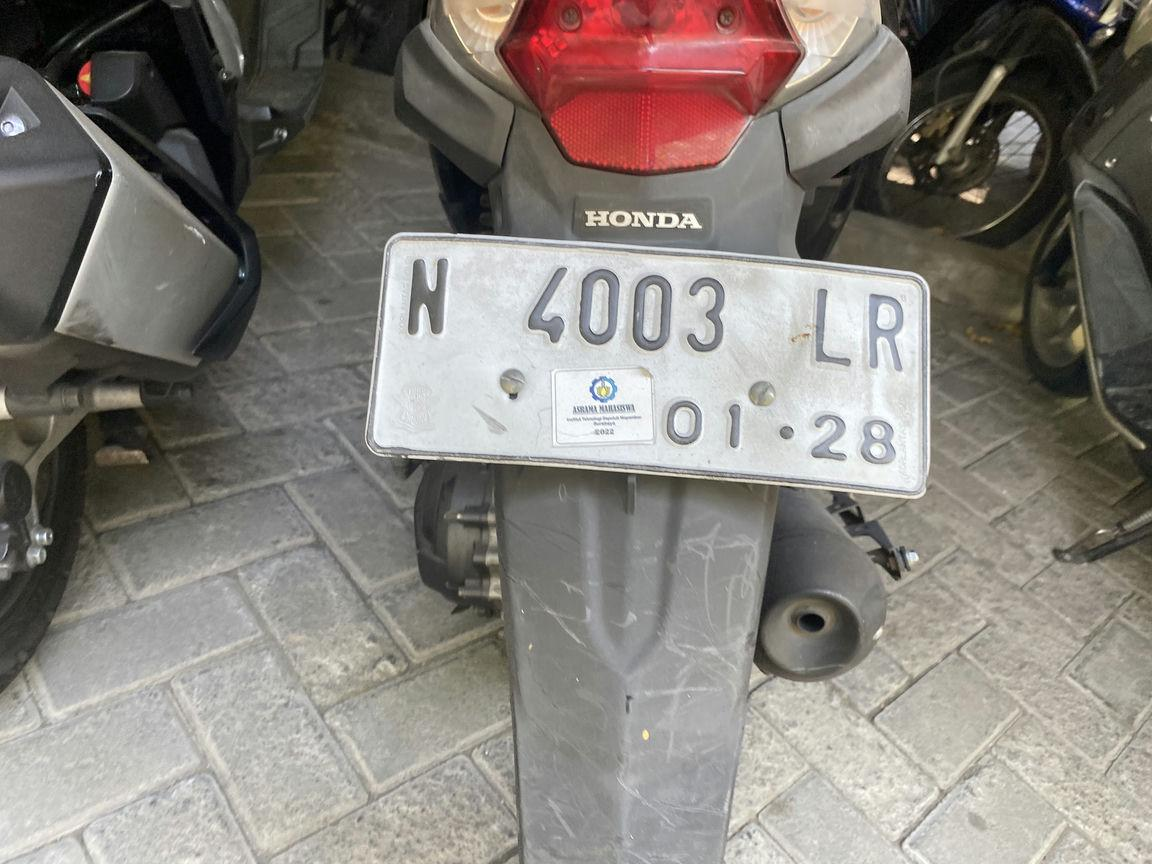plat: (367, 234, 929, 497)
